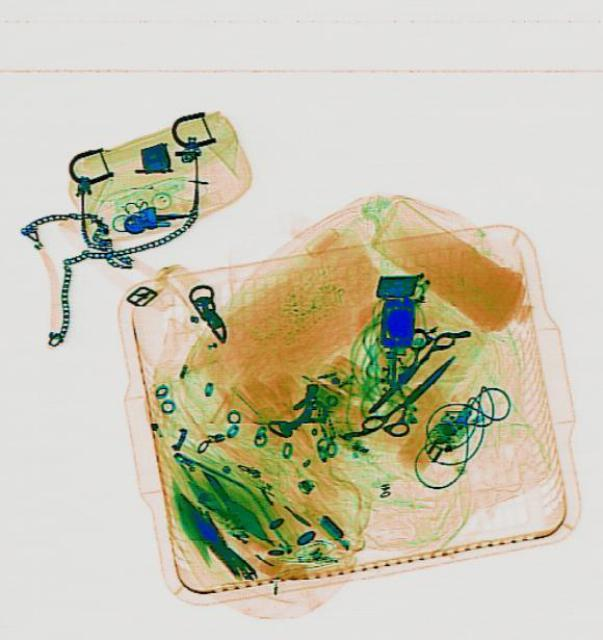Scissors: (355, 337, 470, 451), (354, 314, 456, 428)
